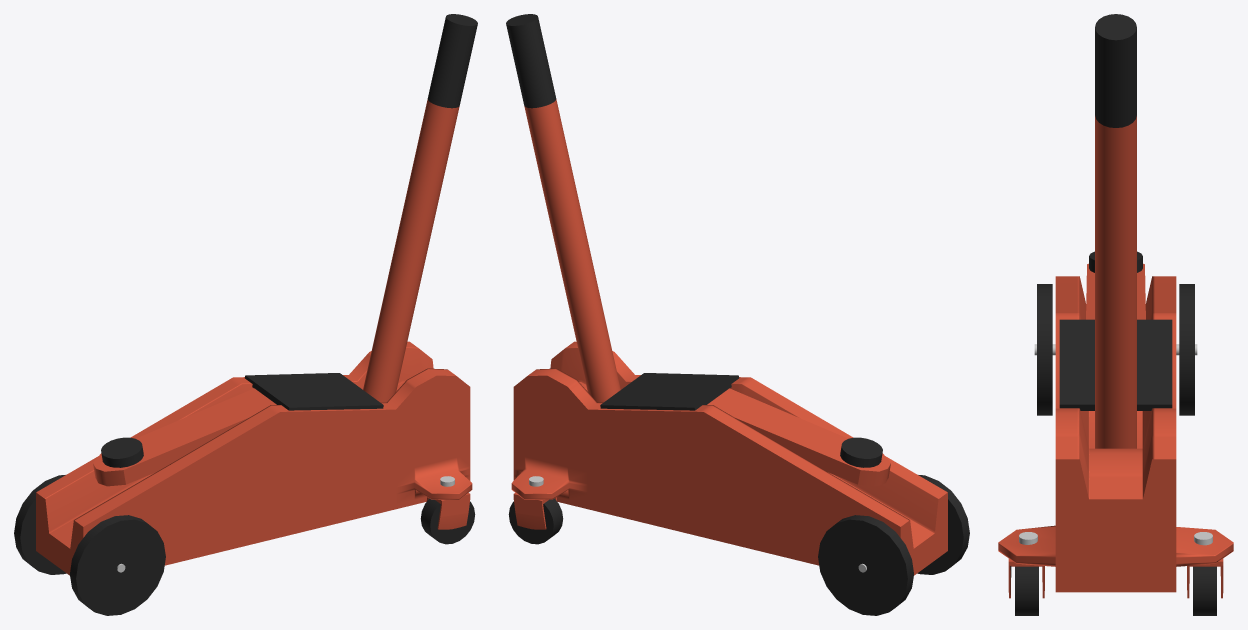
File: jackAni.fbx
3 views of the same model, side by side, from view 1: azimuth 30°, elevation 25°; view 2: azimuth 150°, elevation 25°; view 3: azimuth 270°, elevation 25° (orthographic). The views are drawn at different scales.
Visible parts, largest first — view 1: JackChassis, JackPlatform; view 2: JackChassis, JackPlatform; view 3: JackChassis, JackPlatform.
Boxes of the visible parts, x1,y1,x2,y2 form: JackChassis: [14, 14, 477, 615]; JackPlatform: [93, 388, 276, 486]; JackChassis: [506, 14, 969, 615]; JackPlatform: [707, 388, 890, 486]; JackChassis: [998, 14, 1233, 615]; JackPlatform: [1086, 251, 1145, 319].
Bounding box in the file's own units: 15.15 × 16.35 × 5.62.
